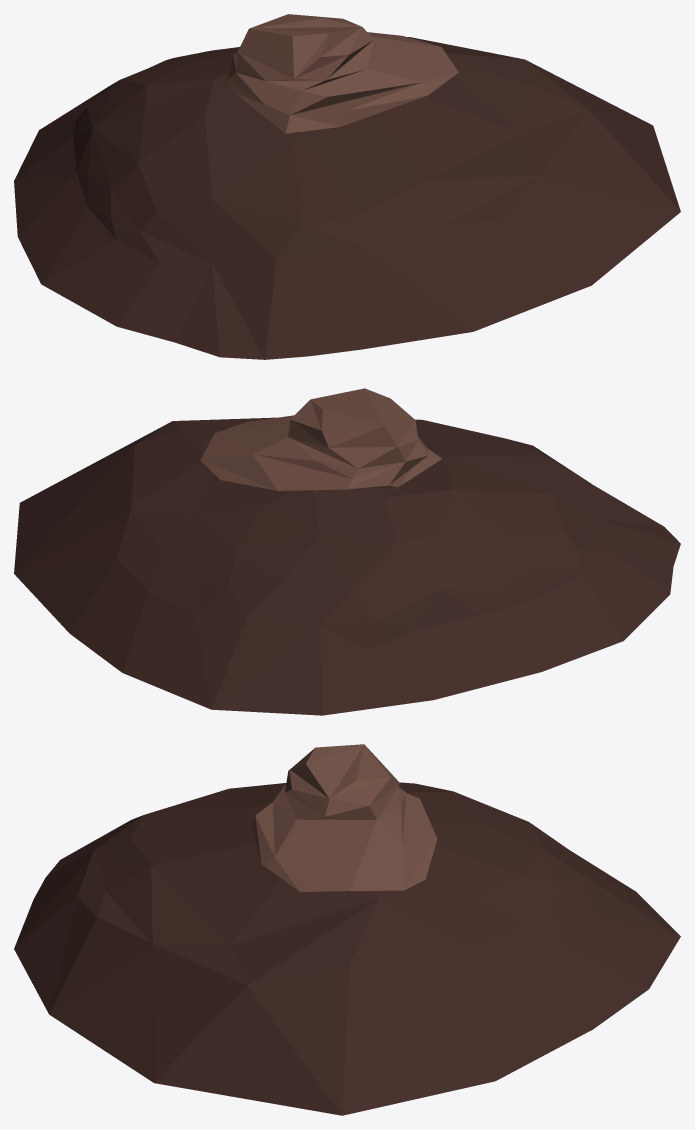
File: Brown_rock_013.fbx
3 views of the same model, one above another, from view 1: azimuth 30°, elevation 25°; view 2: azimuth 150°, elevation 25°; view 3: azimuth 270°, elevation 25° (orthographic). The views are drawn at different scales.
Parts seen in each view (by area): view 1: Brown_rock_013; view 2: Brown_rock_013; view 3: Brown_rock_013.
Boxes of the visible parts, left/top/right/bottom form: Brown_rock_013: left=14, top=14, right=680, bottom=359; Brown_rock_013: left=14, top=388, right=680, bottom=715; Brown_rock_013: left=14, top=744, right=680, bottom=1115.
Size of the model in its own units: 1153 by 1085 by 338.
